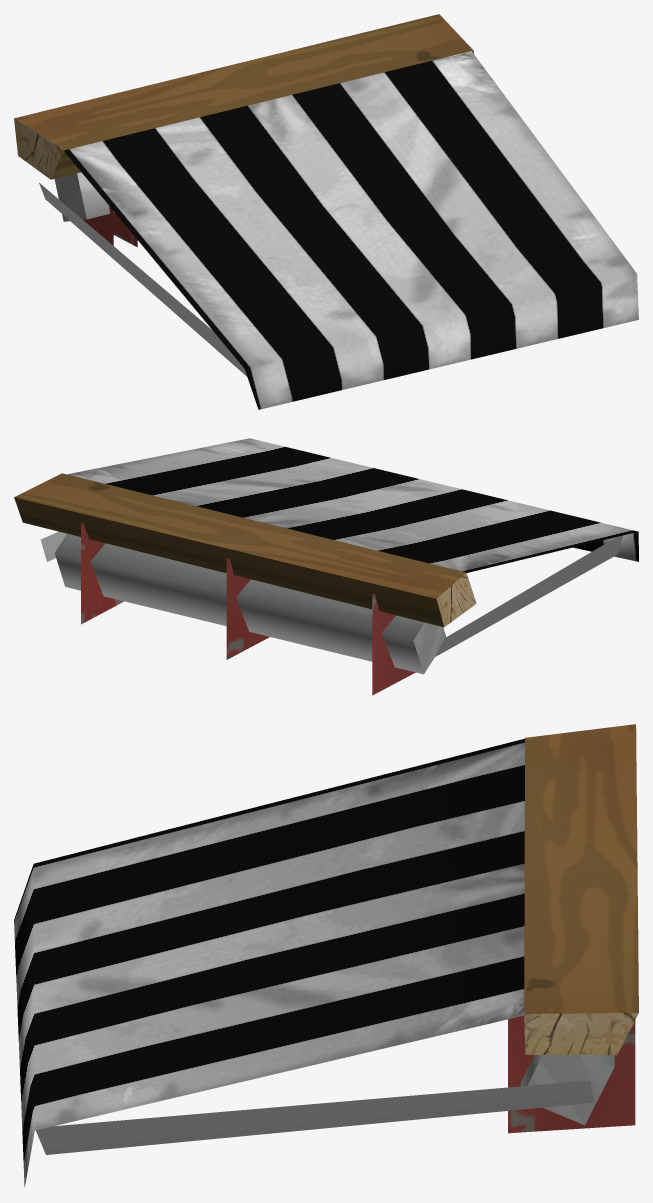
File: obj_manmade_scraproof02_lod1.fbx
3 views of the same model, one above another, from view 1: azimuth 30°, elevation 25°; view 2: azimuth 150°, elevation 25°; view 3: azimuth 270°, elevation 25° (orthographic). The views are drawn at different scales.
Parts seen in each view (by area): view 1: obj_manmade_scraproof02_lod1; view 2: obj_manmade_scraproof02_lod1; view 3: obj_manmade_scraproof02_lod1.
Part boxes in pixels (left/top/right/bottom): obj_manmade_scraproof02_lod1: left=14, top=14, right=638, bottom=409; obj_manmade_scraproof02_lod1: left=14, top=438, right=638, bottom=695; obj_manmade_scraproof02_lod1: left=14, top=724, right=638, bottom=1187.
Size of the model in its own units: 7.86 by 2.42 by 7.16.
